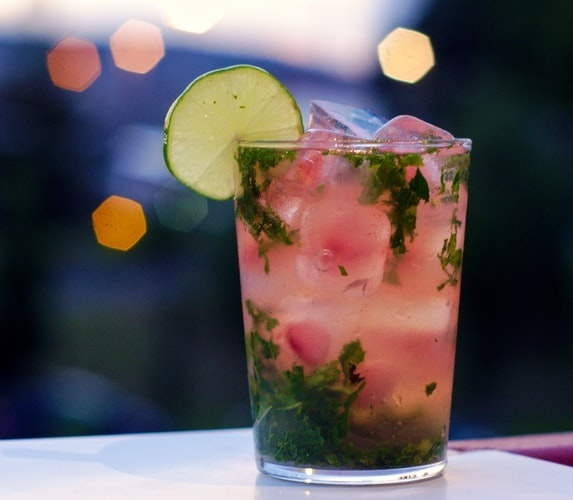whiskey: (240, 121, 483, 478)
